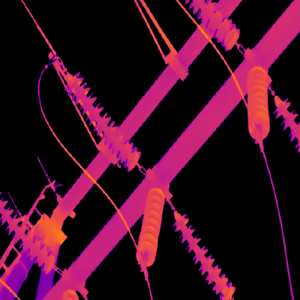insulator: (65, 70, 140, 171), (171, 207, 234, 300), (0, 197, 55, 274), (182, 0, 240, 49), (134, 183, 166, 268), (246, 63, 270, 143), (274, 91, 300, 157)
